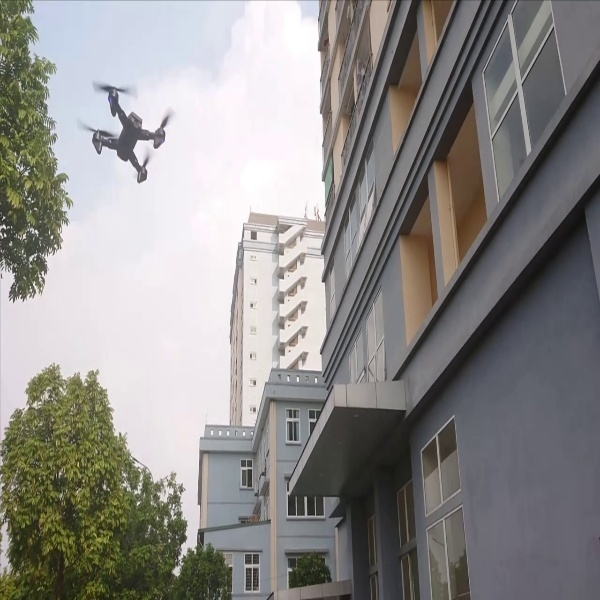drone: (74, 76, 178, 191)
